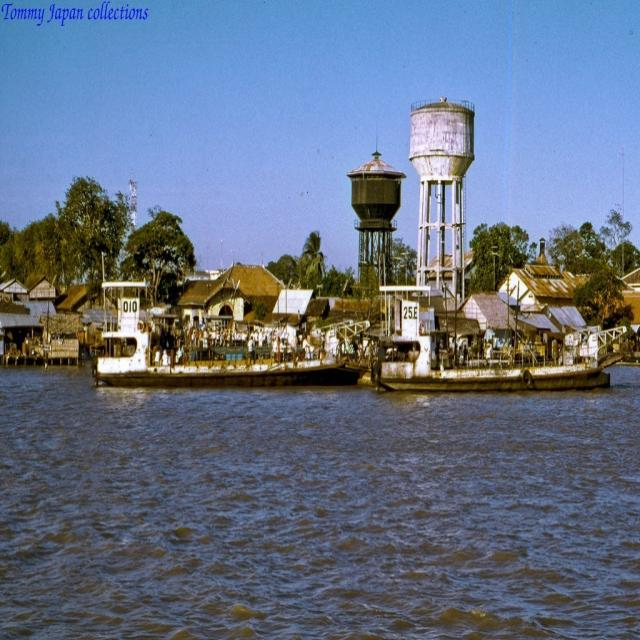Boat: (93, 251, 368, 389), (378, 321, 617, 395)
